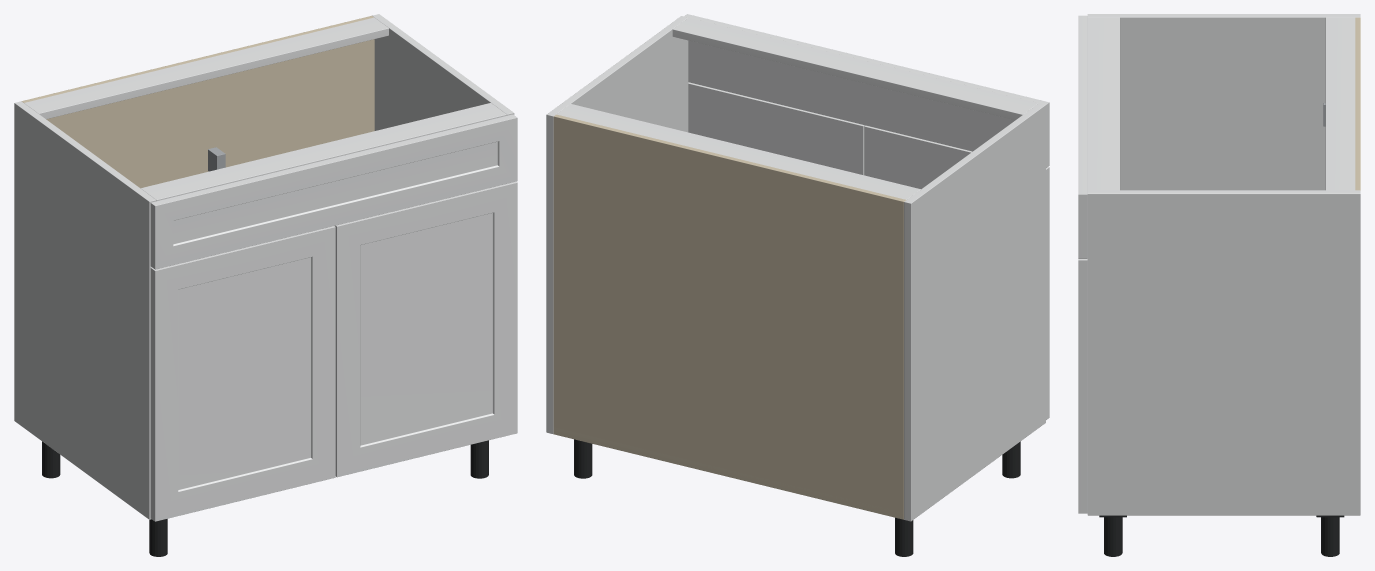
Rendered from PLY-WSS-SB36.glb.
3 renders of one model, left to right at view 1: azimuth 30°, elevation 25°; view 2: azimuth 150°, elevation 25°; view 3: azimuth 270°, elevation 25°, orthographic.
Visible parts, largest first — view 1: Shaker door, Shaker door.001, Carcass left, Carcass back, False drawer front, Top support rail, Carcass right, Top support rail.001, Adjustable foot.001, Adjustable foot.003; view 2: Carcass back, Carcass left, False drawer front, Carcass right, Shaker door.001, Top support rail.001, Shaker door, Top support rail, Carcass bottom, Adjustable foot, Adjustable foot.002; view 3: Carcass right, Carcass left, Top support rail.001, Top support rail, Shaker door.001, False drawer front, Carcass back, Adjustable foot.003, Adjustable foot.002.
Boxes of the visible parts, bbox=[...] form: Shaker door: bbox=[150, 226, 335, 521]; Shaker door.001: bbox=[335, 181, 517, 477]; Carcass left: bbox=[14, 101, 156, 519]; Carcass back: bbox=[21, 15, 374, 188]; False drawer front: bbox=[150, 114, 517, 269]; Top support rail: bbox=[24, 17, 388, 119]; Carcass right: bbox=[372, 14, 514, 130]; Top support rail.001: bbox=[141, 103, 506, 201]; Adjustable foot.001: bbox=[149, 519, 167, 556]; Adjustable foot.003: bbox=[470, 440, 488, 478]; Carcass back: bbox=[553, 114, 905, 519]; Carcass left: bbox=[904, 103, 1045, 521]; False drawer front: bbox=[684, 14, 1049, 167]; Carcass right: bbox=[546, 16, 688, 434]; Shaker door.001: bbox=[688, 82, 865, 175]; Top support rail.001: bbox=[672, 17, 1038, 120]; Shaker door: bbox=[864, 125, 1049, 419]; Top support rail: bbox=[556, 104, 920, 199]; Carcass bottom: bbox=[553, 427, 902, 518]; Adjustable foot: bbox=[895, 517, 913, 556]; Adjustable foot.002: bbox=[574, 439, 592, 478]; Carcass right: bbox=[1087, 190, 1360, 515]; Carcass left: bbox=[1087, 14, 1360, 190]; Top support rail.001: bbox=[1087, 17, 1120, 190]; Top support rail: bbox=[1325, 17, 1355, 190]; Shaker door.001: bbox=[1078, 259, 1087, 513]; False drawer front: bbox=[1078, 15, 1087, 258]; Carcass back: bbox=[1355, 17, 1360, 190]; Adjustable foot.003: bbox=[1104, 517, 1122, 556]; Adjustable foot.002: bbox=[1321, 517, 1339, 556].
Bounding box in the file's own units: 0.9144 × 0.8763 × 0.6064.
